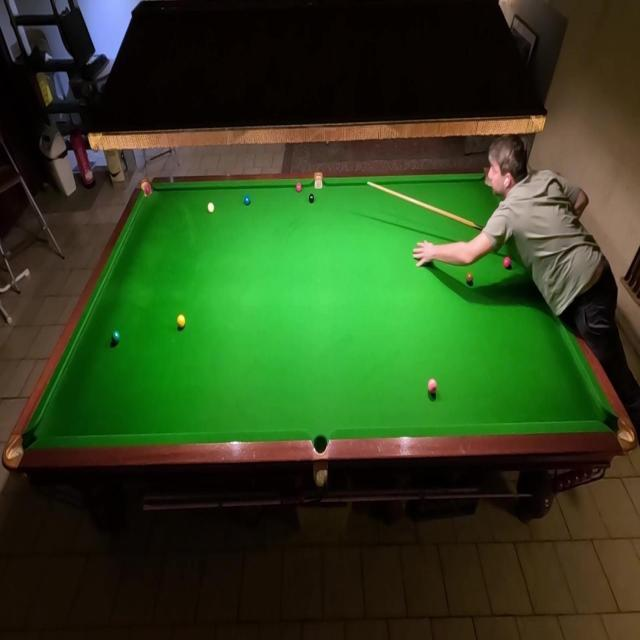Ball: (428, 378, 438, 394), (502, 256, 512, 270), (111, 330, 121, 344), (177, 314, 186, 329), (466, 272, 474, 286), (207, 202, 215, 214), (244, 195, 252, 207), (296, 182, 302, 192), (144, 184, 150, 194), (308, 194, 314, 204)
